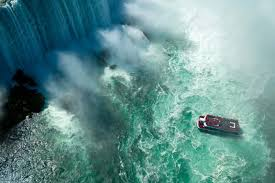boat: (194, 111, 241, 136)
